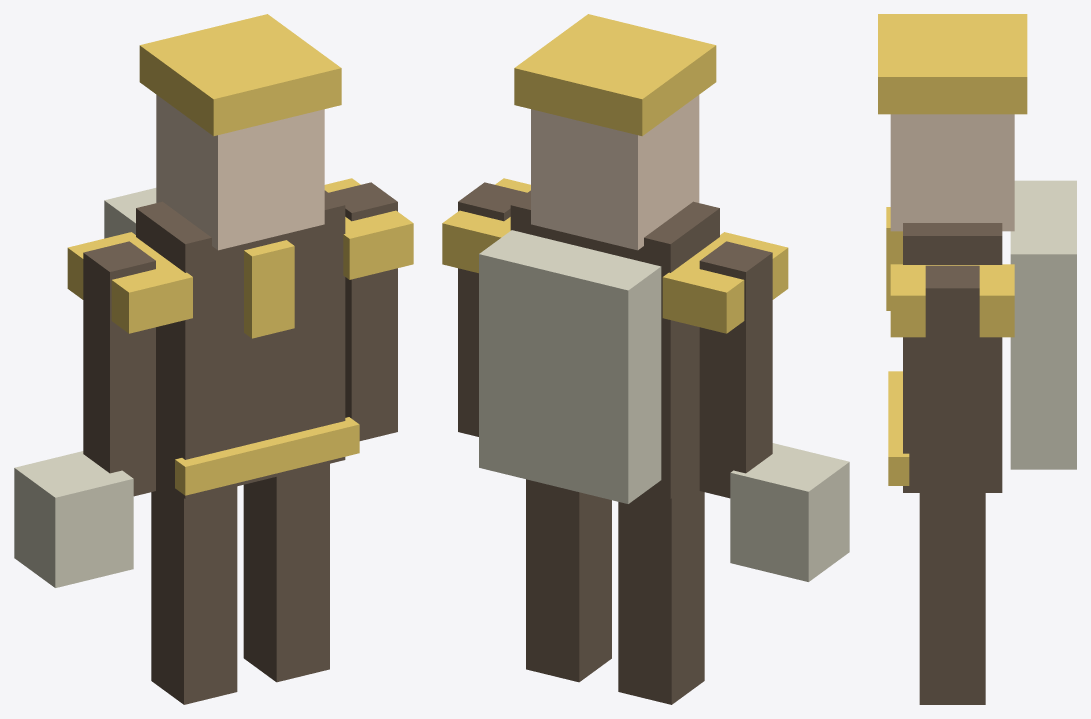
The model's file is 14_juno_riftwalker_herald_from_executive.glb.
The picture shows the model from 3 angles, left to right: view 1: azimuth 30°, elevation 25°; view 2: azimuth 150°, elevation 25°; view 3: azimuth 270°, elevation 25°; orthographic projection.
Visible parts, largest first — view 1: Juno Riftwalker, Herald from Executive; view 2: Juno Riftwalker, Herald from Executive; view 3: Juno Riftwalker, Herald from Executive.
Part boxes in pixels (x1=…): Juno Riftwalker, Herald from Executive: x1=14, y1=14, x2=413, y2=704; Juno Riftwalker, Herald from Executive: x1=442, y1=14, x2=849, y2=704; Juno Riftwalker, Herald from Executive: x1=878, y1=14, x2=1076, y2=704.
Size of the model in its own units: 0.9695 by 1.62 by 0.4677.
